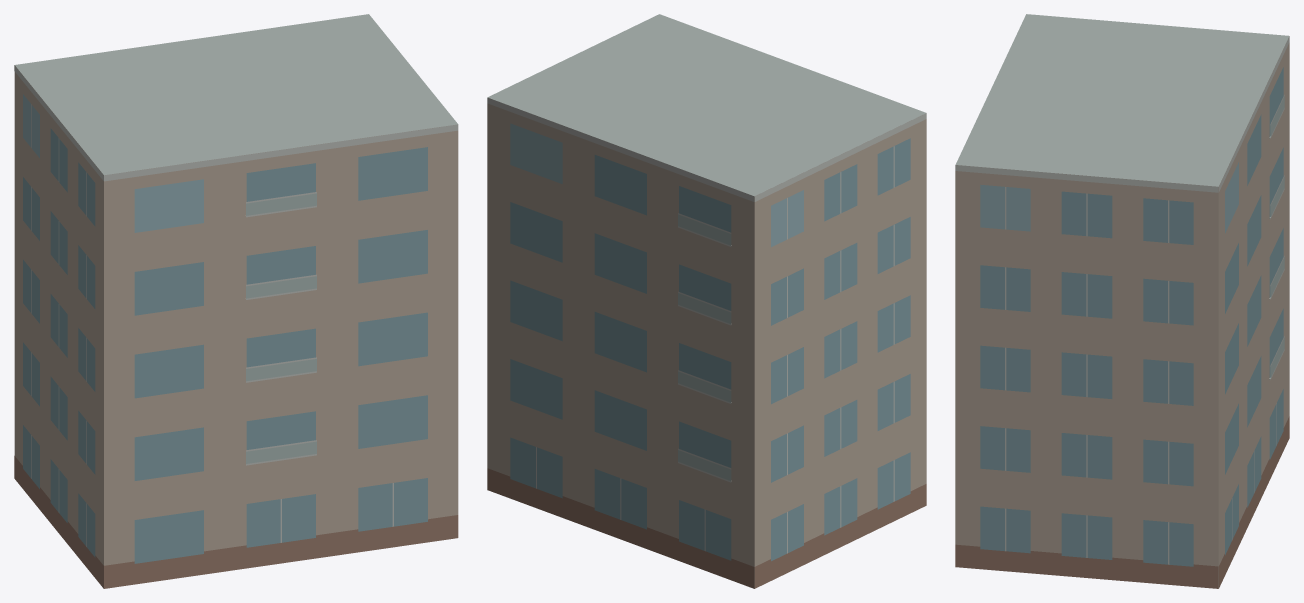
Rendered from survey-upis-32710948.glb.
The picture shows the model from 3 angles, left to right: view 1: azimuth 30°, elevation 25°; view 2: azimuth 150°, elevation 25°; view 3: azimuth 270°, elevation 25°; orthographic projection. The views are drawn at different scales.
Parts seen in each view (by area): view 1: survey-upis-32710948.tmp; view 2: survey-upis-32710948.tmp; view 3: survey-upis-32710948.tmp.
Boxes of the visible parts, bbox=[...] form: survey-upis-32710948.tmp: bbox=[14, 14, 458, 588]; survey-upis-32710948.tmp: bbox=[487, 14, 926, 588]; survey-upis-32710948.tmp: bbox=[955, 14, 1289, 588].
Bounding box in the file's own units: 14.93 × 16.2 × 12.21.
